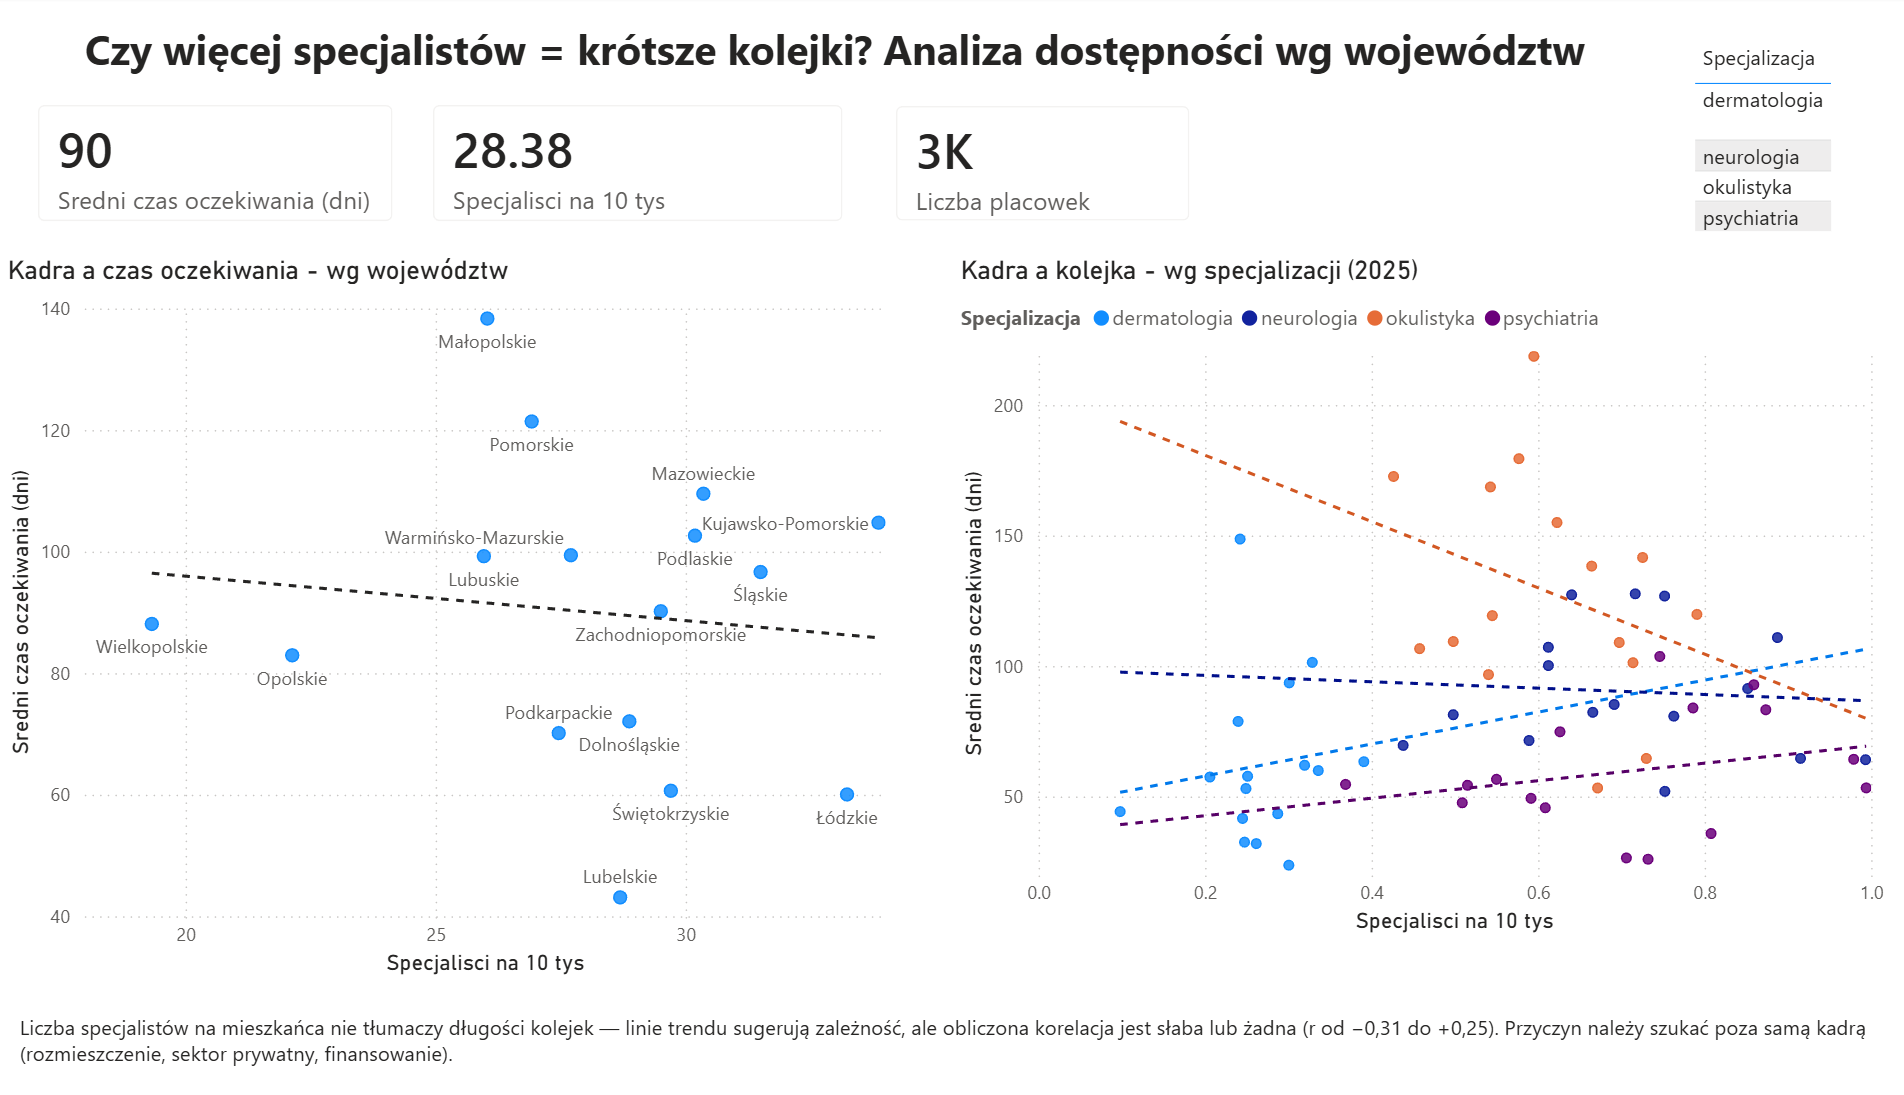

The dashboard page shown, as its layout file describes it:
{"tool":"powerbi","page":{"name":"Przegląd ","canvas":[1280,720],"ordinal":0},"visuals":[{"type":"tableEx","fields":{"Values":["dim_specjalizacja.Specjalizacja"]},"box":[1103.3,24.2,109.9,140],"z":0},{"type":"scatterChart","title":"Kadra a czas oczekiwania - wg województw ","fields":{"X":["mz89_specjalisci_polaczone.Specjalisci na 10 tys"],"Y":["nfz_pobrane.Sredni czas oczekiwania (dni)"],"Category":["dim_wojewodztwo.Nazwa"]},"box":[0,168.8,591.6,475.7],"z":1000},{"type":"cardVisual","fields":{"Data":["nfz_pobrane.Sredni czas oczekiwania (dni)"]},"box":[7.9,53.7,266.3,110.6],"z":2000},{"type":"cardVisual","fields":{"Data":["mz89_specjalisci_polaczone.Specjalisci na 10 tys"]},"box":[266.3,53.7,303,110.6],"z":3000},{"type":"cardVisual","fields":{"Data":["nfz_pobrane.Liczba placowek"]},"box":[569.3,54.3,226.4,109.9],"z":4000},{"type":"scatterChart","title":"Kadra a kolejka - wg specjalizacji (2025)","fields":{"X":["mz89_specjalisci_polaczone.Specjalisci na 10 tys"],"Y":["nfz_pobrane.Sredni czas oczekiwania (dni)"],"Category":["dim_wojewodztwo.Nazwa"],"Series":["dim_specjalizacja.Specjalizacja"]},"box":[623.6,168.8,613.8,448.9],"z":5000},{"type":"textbox","box":[19.6,10.5,1053.6,58.2],"z":6000},{"type":"textbox","box":[7.9,660.3,1264.3,59.6],"z":7000}]}

Visuals, with their boxes in screenshot pixels (x1, y1, x2, y2), scaled from the page's 1280x720 canvas onto the 1904x1095 screenshot:
tableEx - dim_specjalizacja.Specjalizacja: bbox(1641, 37, 1805, 250)
"Kadra a czas oczekiwania - wg województw " scatterChart: bbox(0, 257, 880, 980)
cardVisual - nfz_pobrane.Sredni czas oczekiwania (dni): bbox(12, 82, 408, 250)
cardVisual - mz89_specjalisci_polaczone.Specjalisci na 10 tys: bbox(396, 82, 847, 250)
cardVisual - nfz_pobrane.Liczba placowek: bbox(847, 83, 1184, 250)
"Kadra a kolejka - wg specjalizacji (2025)" scatterChart: bbox(928, 257, 1841, 939)
textbox: bbox(29, 16, 1596, 104)
textbox: bbox(12, 1004, 1892, 1094)
